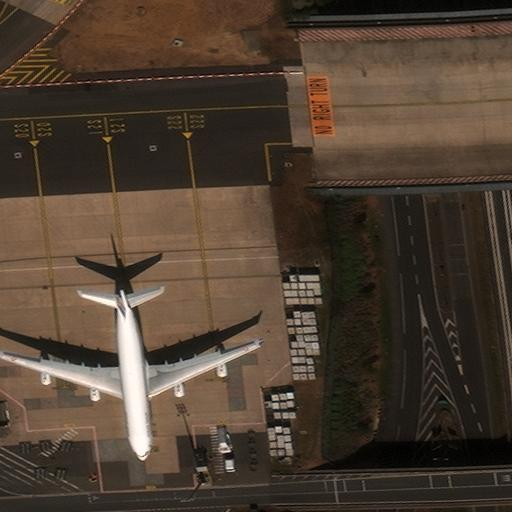Large Civil Transport: (0, 290, 259, 460)
